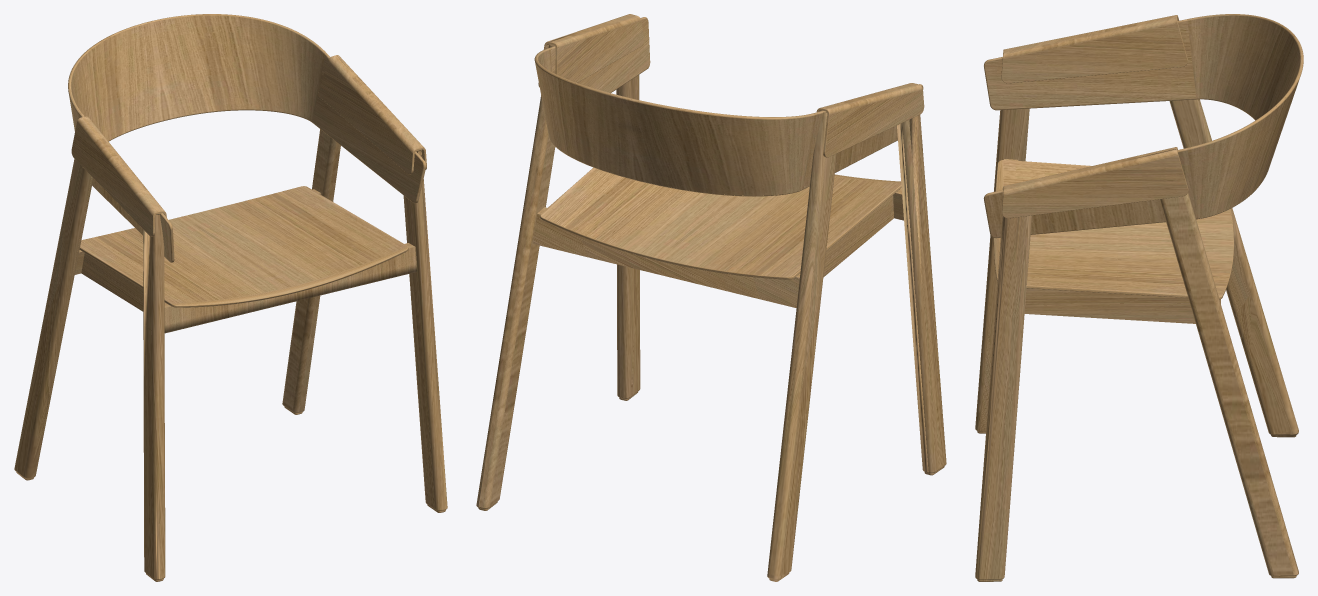
File: cover_chair.glb
3 views of the same model, side by side, from view 1: azimuth 30°, elevation 25°; view 2: azimuth 150°, elevation 25°; view 3: azimuth 270°, elevation 25° (orthographic). The views are drawn at different scales.
Visible parts, largest first — view 1: Object_15; view 2: Object_15; view 3: Object_15.
Part boxes in pixels (left/top/right/bottom): Object_15: left=14, top=14, right=447, bottom=581; Object_15: left=476, top=14, right=946, bottom=581; Object_15: left=975, top=14, right=1303, bottom=581.
Bounding box in the file's own units: 1.12 × 1.52 × 1.01.
Materials: 1 (1 with a texture image).
